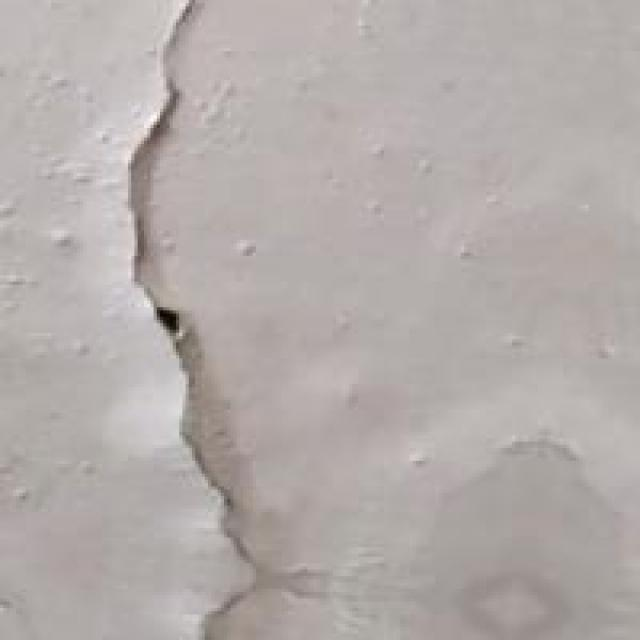Crack: (67, 3, 336, 637)
